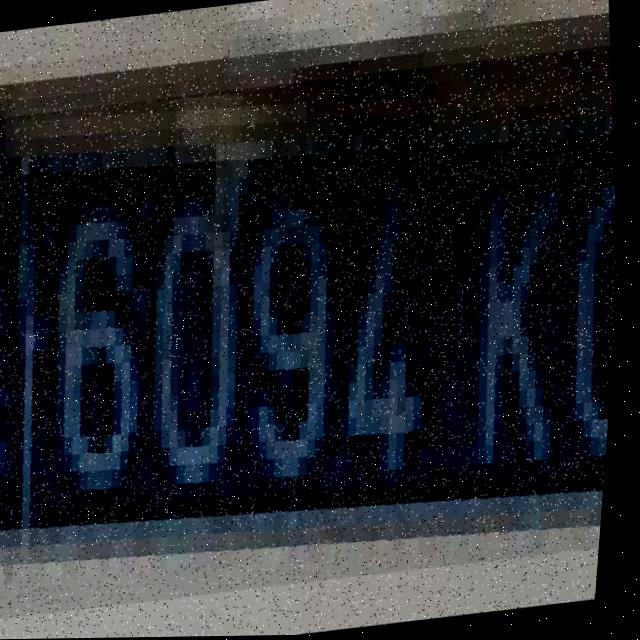LicensePlate: (0, 47, 637, 621)
